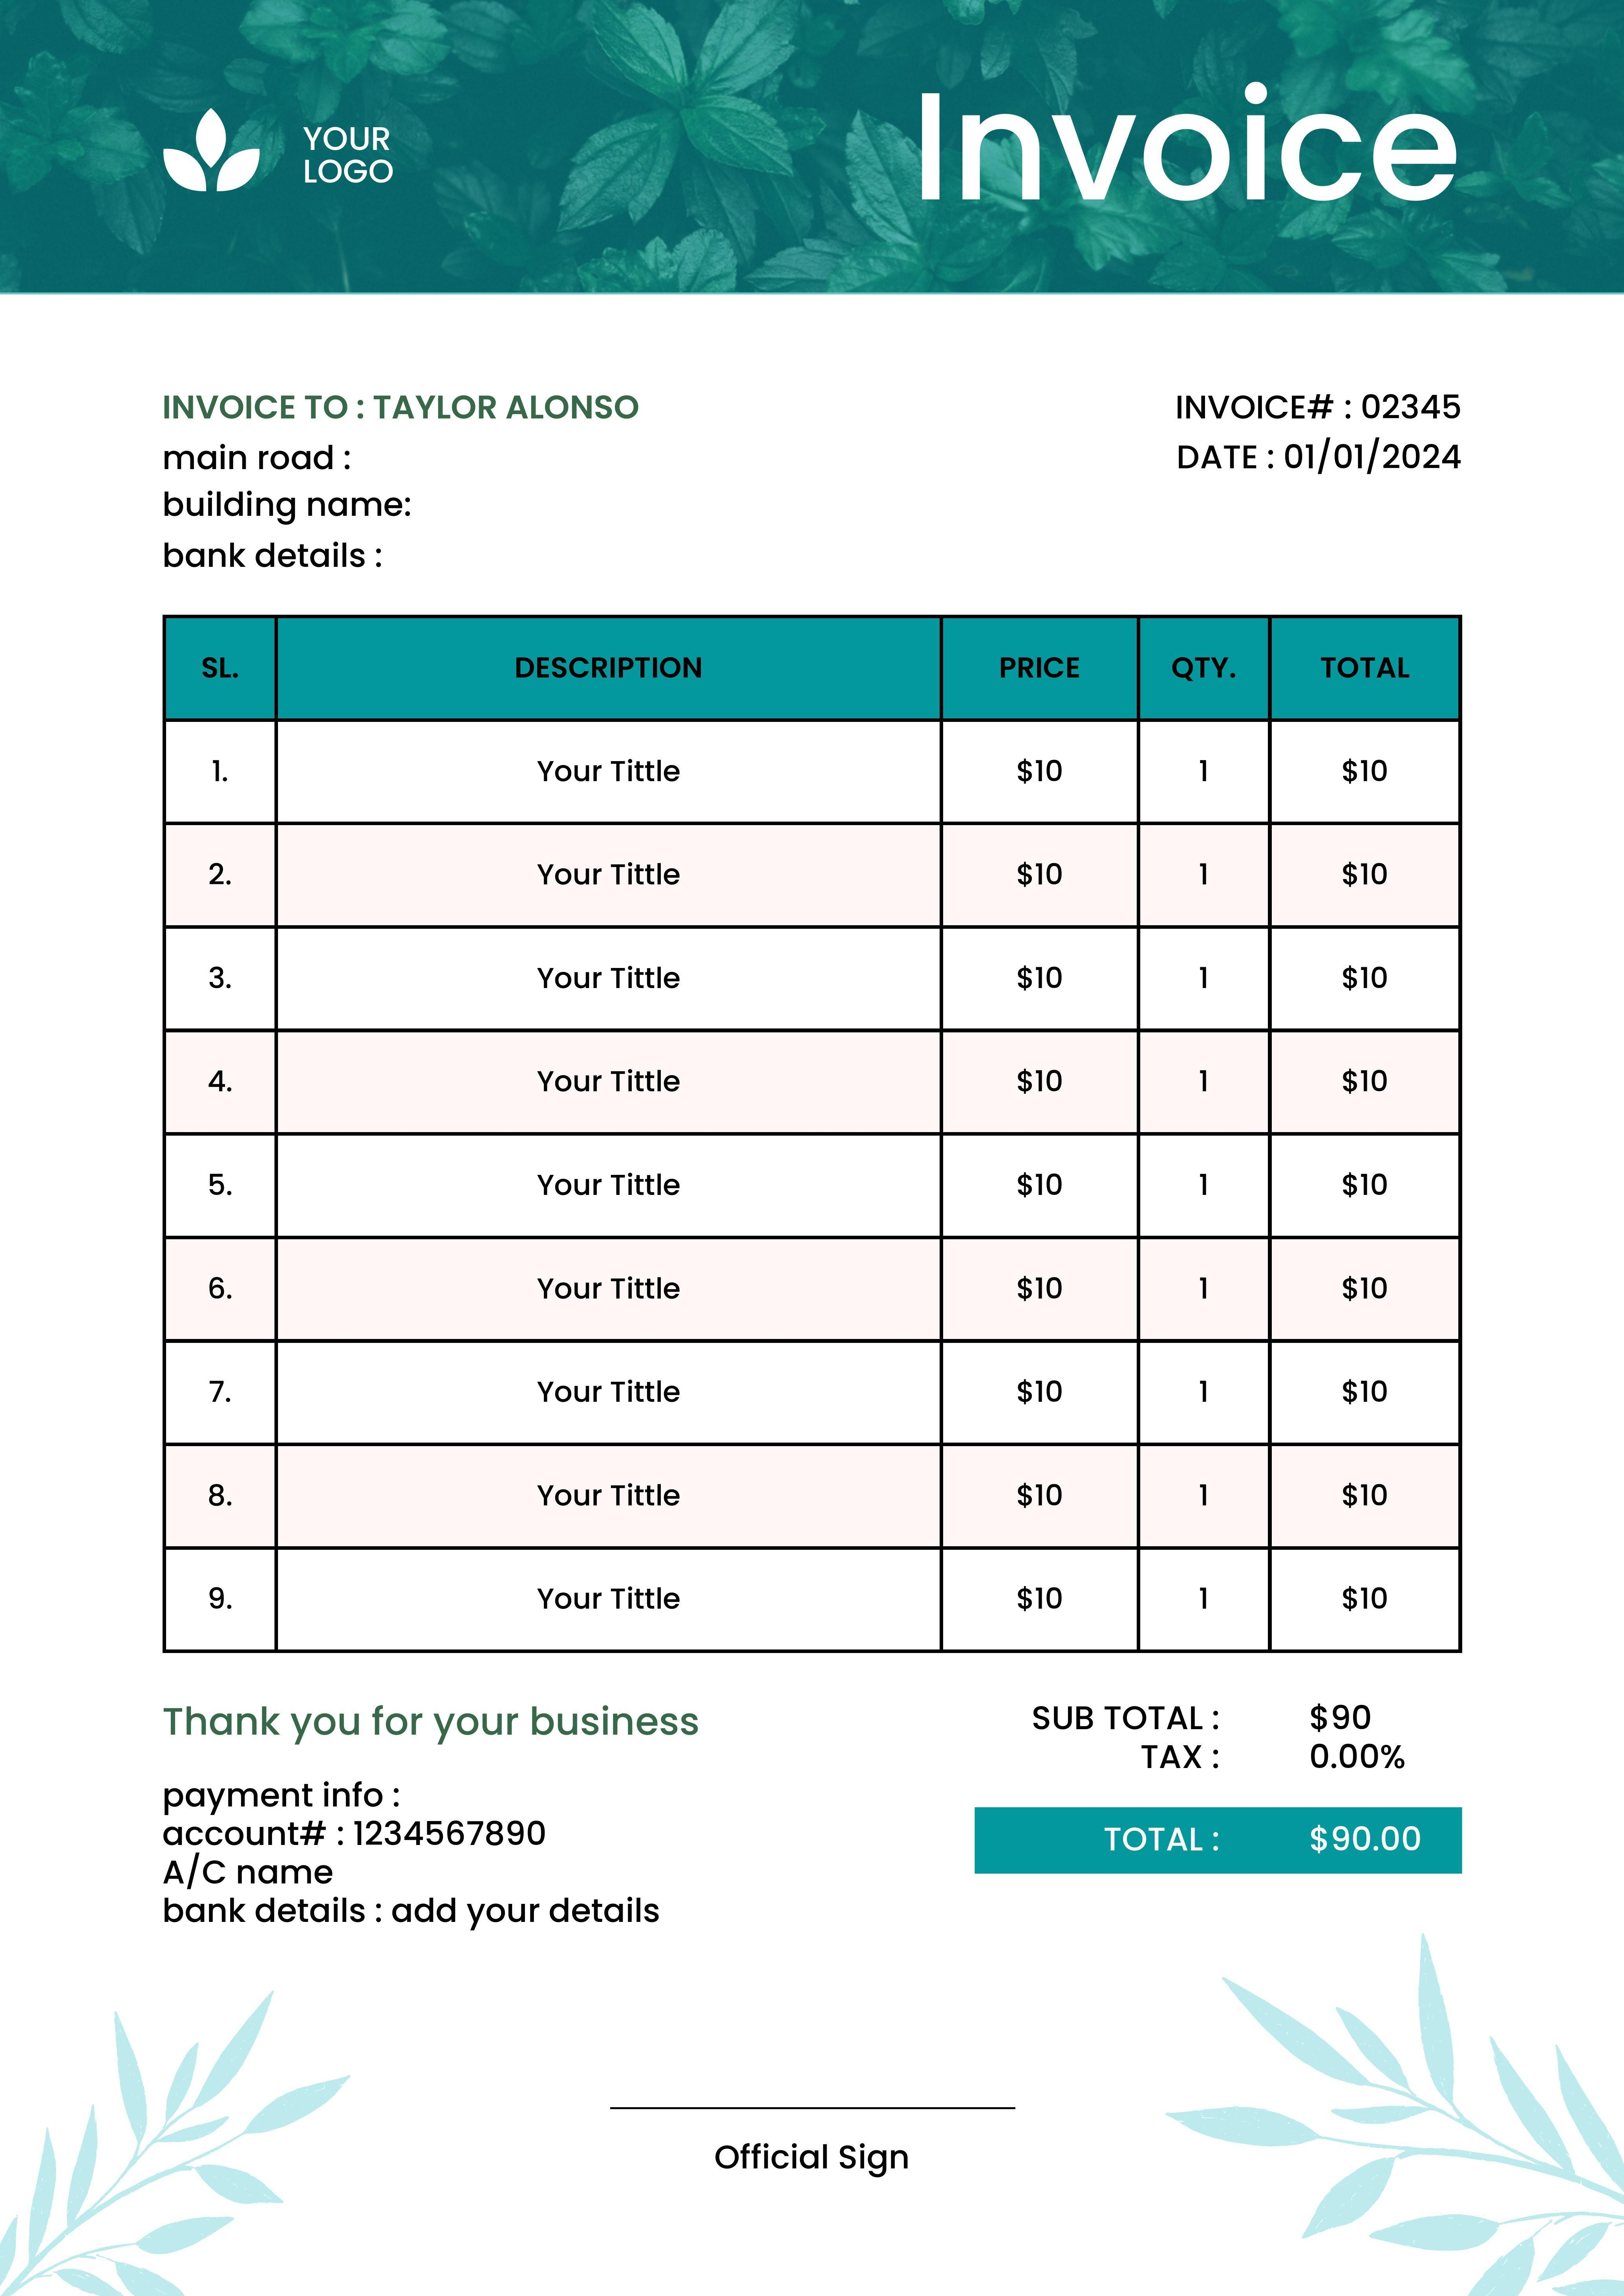ROI: (140, 598, 1473, 1665), (140, 1759, 700, 1964), (140, 383, 703, 575), (978, 1681, 1464, 1888), (1126, 363, 1522, 528), (294, 107, 415, 195)
